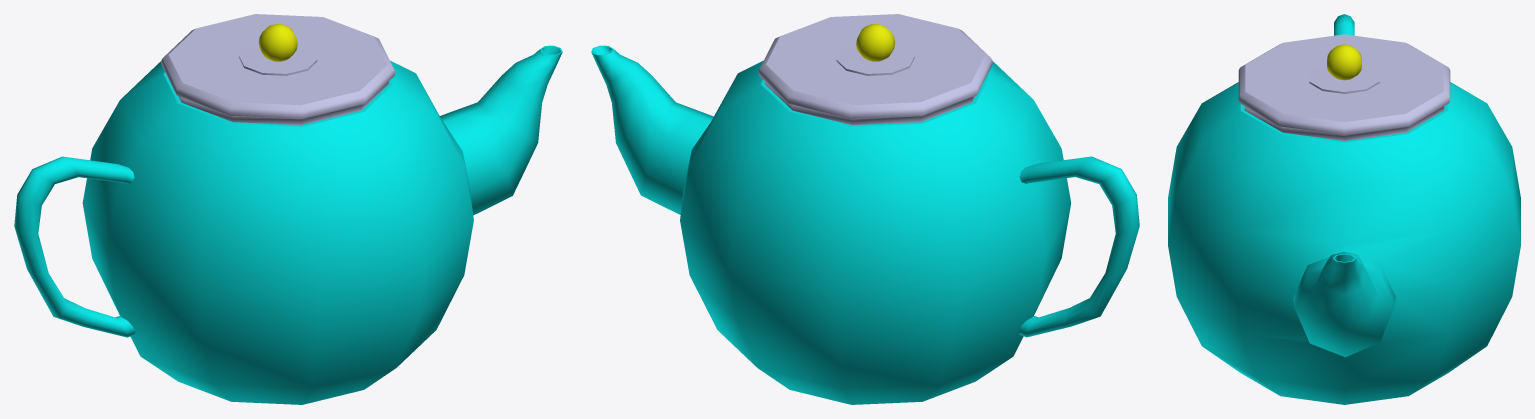
The model's file is Kettle.fbx.
3 renders of one model, left to right at view 1: azimuth 30°, elevation 25°; view 2: azimuth 150°, elevation 25°; view 3: azimuth 270°, elevation 25°, orthographic. The views are drawn at different scales.
Parts seen in each view (by area): view 1: Kettle1; view 2: Kettle1; view 3: Kettle1.
Boxes of the visible parts, <box> form: Kettle1: <box>14,14,562,404</box>; Kettle1: <box>591,14,1139,404</box>; Kettle1: <box>1168,14,1520,404</box>.
Size of the model in its own units: 32.02 by 18.6 by 19.02.
